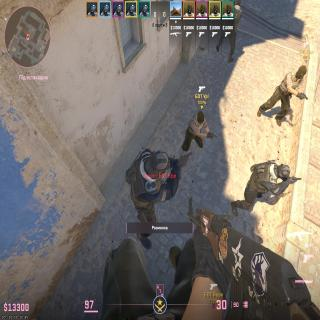CT-Body: (126, 147, 181, 224), (234, 159, 290, 211), (220, 0, 242, 61)
CT-Head: (149, 150, 171, 176), (277, 163, 290, 180), (234, 0, 241, 7)
T-Body: (258, 64, 308, 122), (182, 109, 206, 151)
T-Head: (296, 65, 307, 79), (197, 110, 205, 123)
